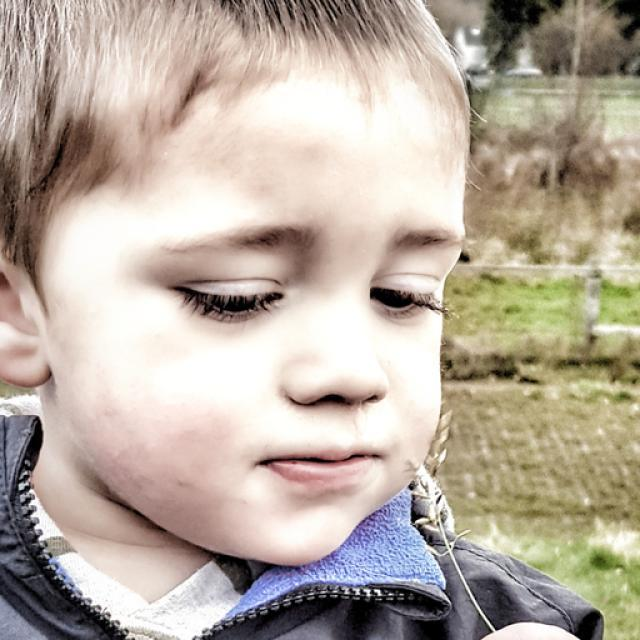sad: (54, 41, 472, 556)
